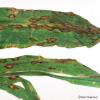Corn leaf blight: (0, 6, 99, 50), (0, 55, 99, 86)
